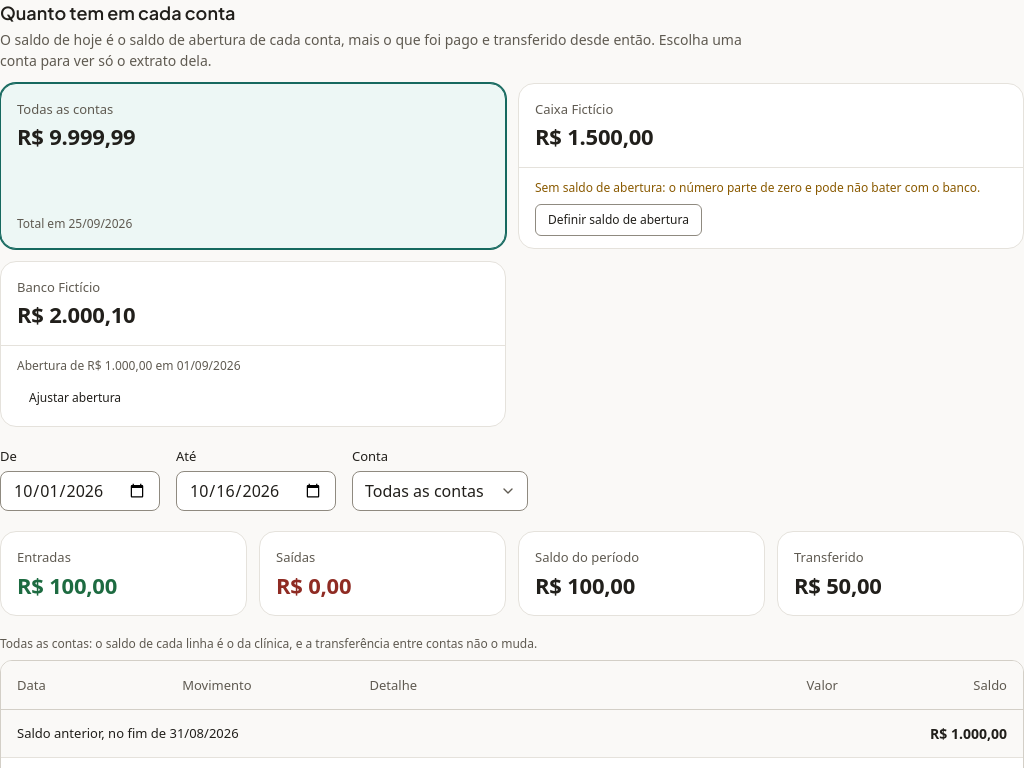
Definir o saldo de abertura › deve abrir o ajuste com a abertura que a conta já tem
Click the button with aria-label "Ajustar abertura de Banco Fictício" at {"x": 75, "y": 398}, box x1=17 y1=382 x2=133 y2=414
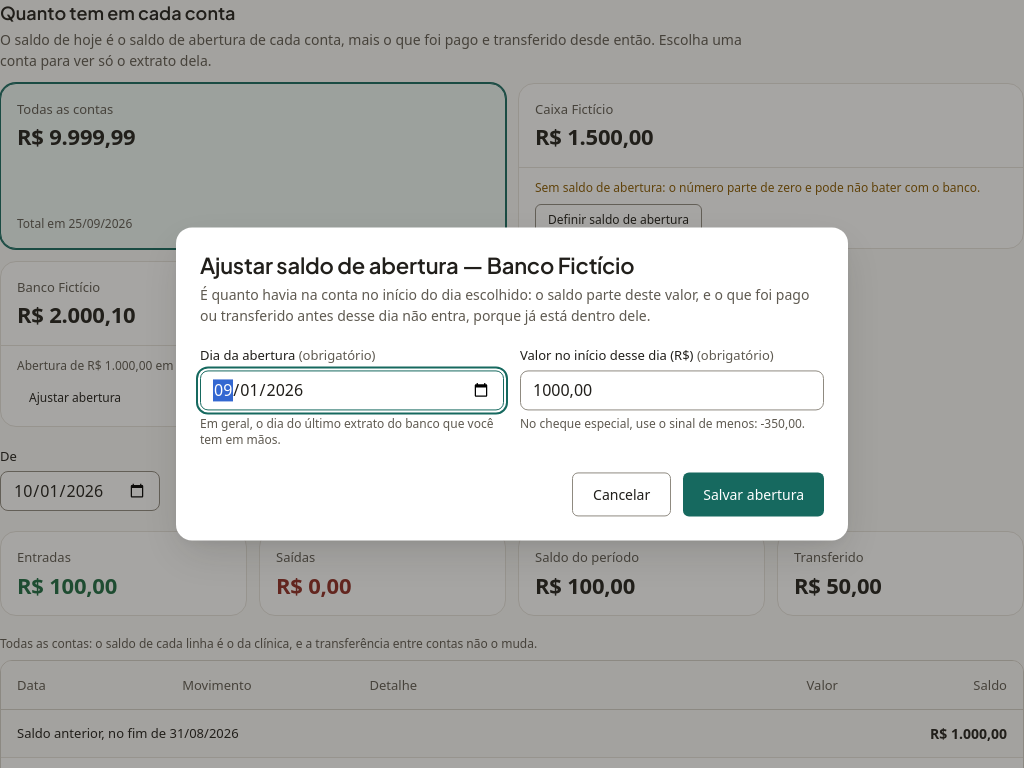
Expected: the date field labelled "Dia da abertura (obrigatório)" holds "2026-09-01", x1=200 y1=370 x2=504 y2=410
Expected: the field labelled "Valor no início desse dia (R$) (obrigatório)" holds "1000,00", x1=520 y1=370 x2=824 y2=410
